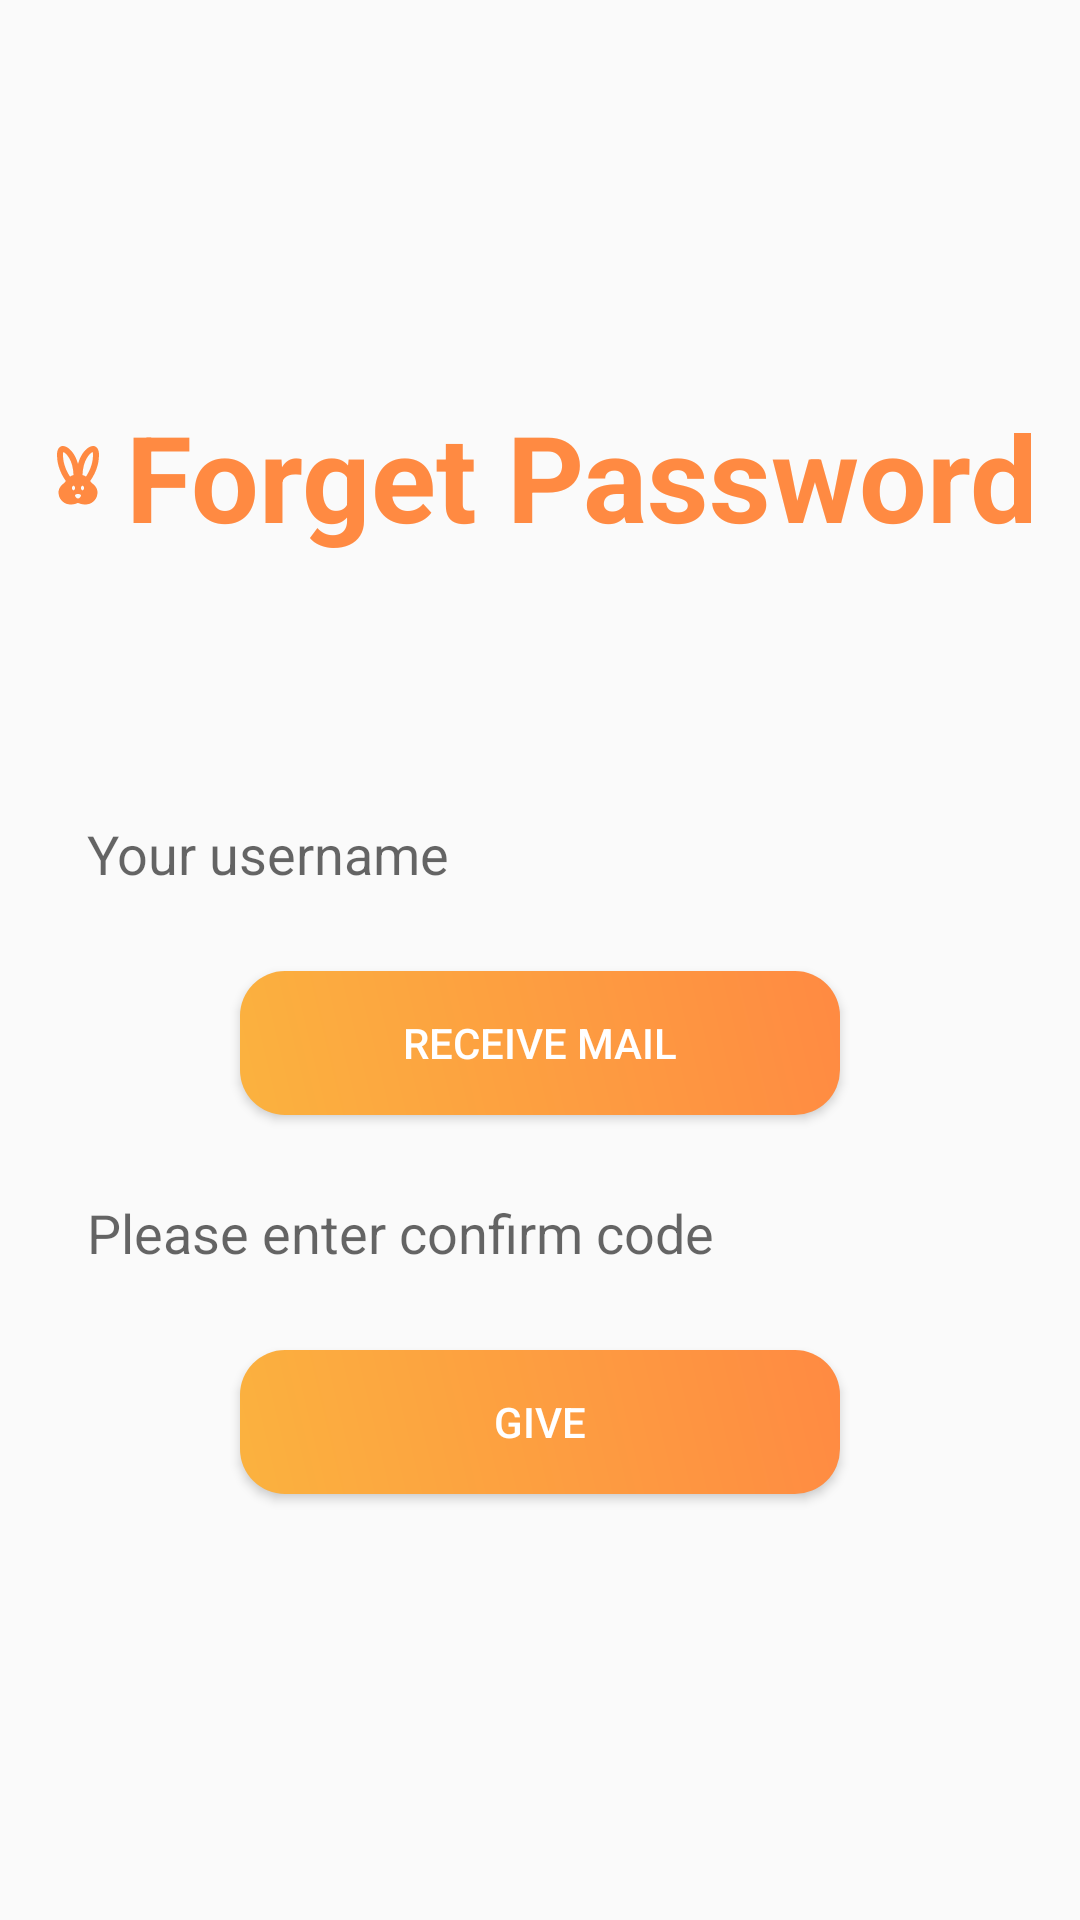

Icons on this 1080*1920 Android screen, each with its box as (x1, y1, x2, y2):
cruelty free: (57, 446, 99, 505)
